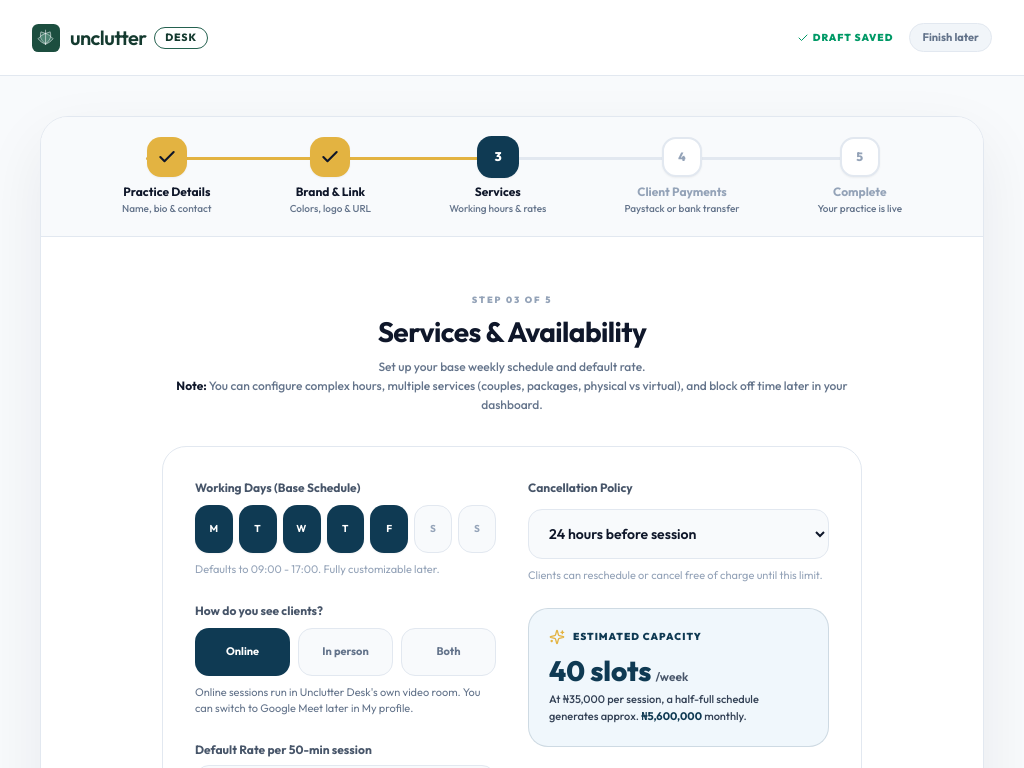
Test case: setup: how do you see clients › an old draft address pre-fills the inline location
The width and height of the screenshot is (1024, 768).
Step 1. Click the radio button labelled "Both" → (448, 652), box x1=401 y1=628 x2=496 y2=676
(page scrolled)
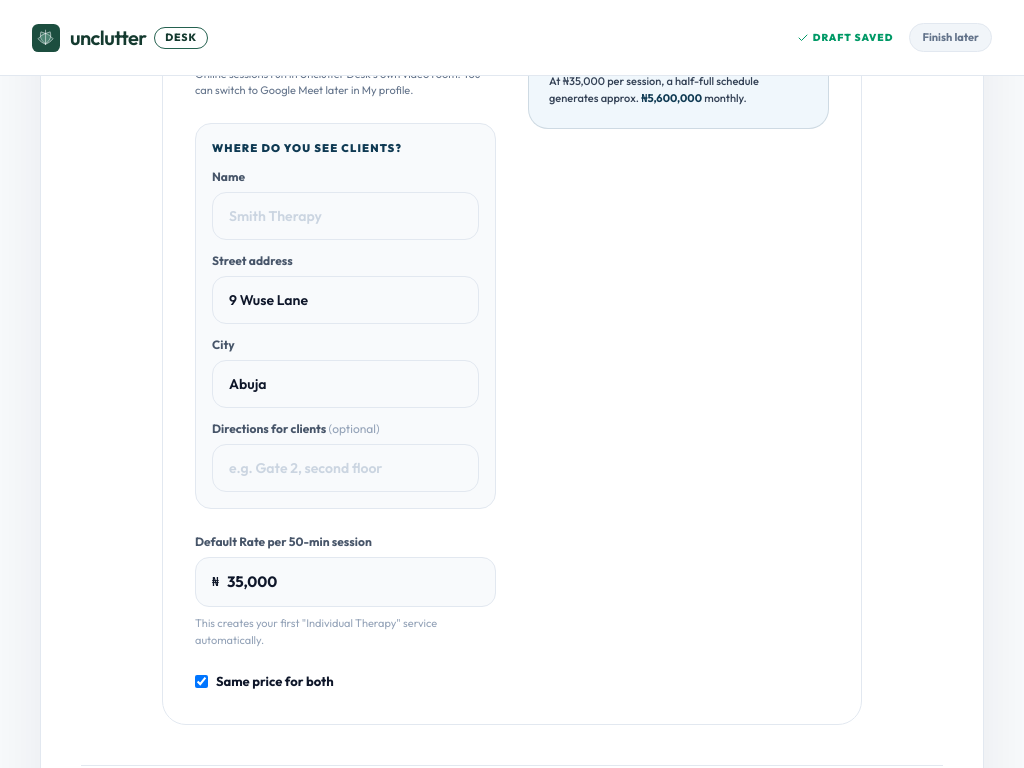
Check: the field with placeholder "e.g. 12 Admiralty Way" below "Street address" holds "9 Wuse Lane", box x1=212 y1=276 x2=479 y2=324
Check: the 2nd field with placeholder "e.g. Lagos" holds "Abuja", box x1=212 y1=360 x2=479 y2=408
